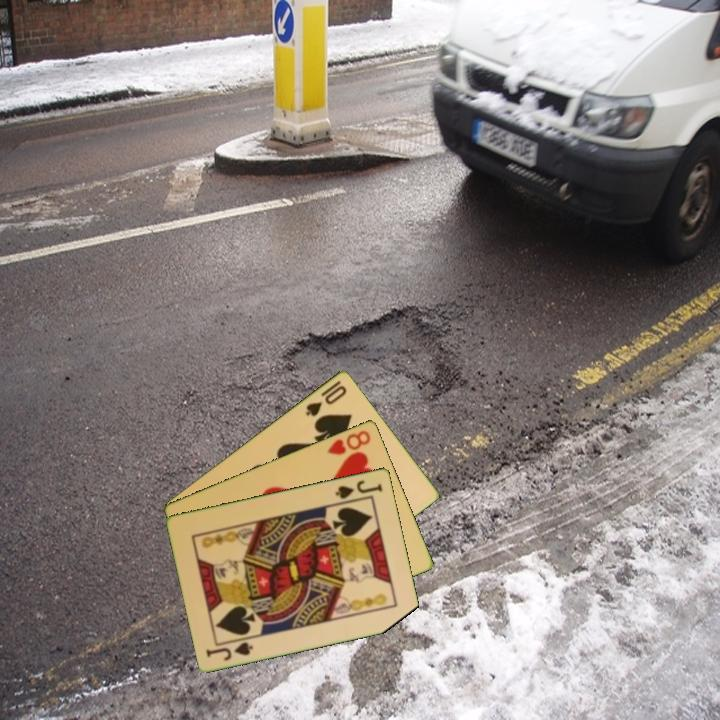10s: (302, 381, 350, 419)
8h: (323, 426, 374, 458)
Js: (332, 476, 385, 502), (203, 638, 256, 663)
